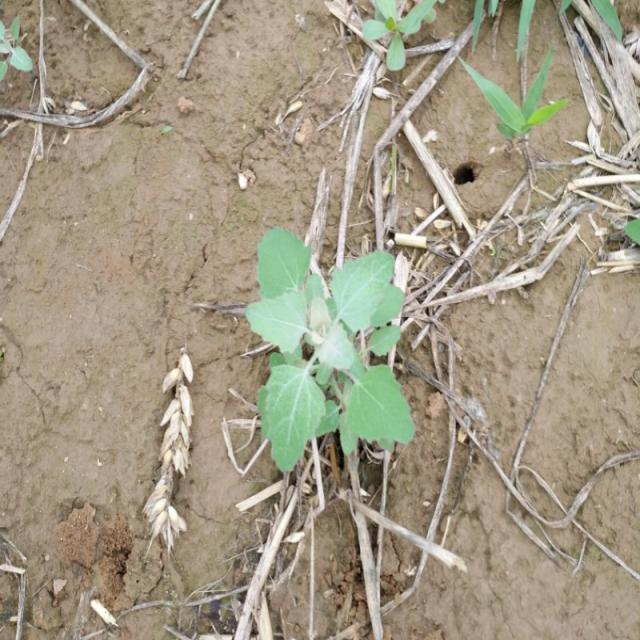goosefoots: (247, 239, 425, 481)
